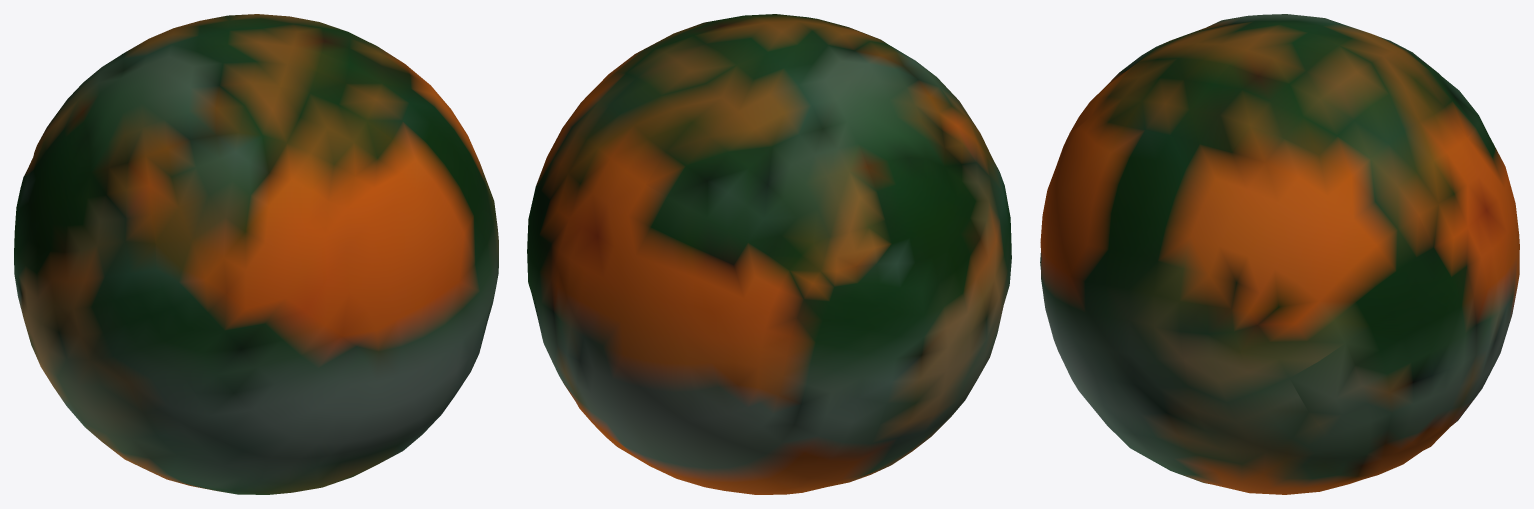
The model's file is 02-6493403-vertex.glb.
3 renders of one model, left to right at view 1: azimuth 30°, elevation 25°; view 2: azimuth 150°, elevation 25°; view 3: azimuth 270°, elevation 25°, orthographic.
Parts seen in each view (by area): view 1: Retopo_neural_node_637e57d5-c699-4cf2-8cf2-9bd27205adfb; view 2: Retopo_neural_node_637e57d5-c699-4cf2-8cf2-9bd27205adfb; view 3: Retopo_neural_node_637e57d5-c699-4cf2-8cf2-9bd27205adfb.
Part boxes in pixels (<box>): Retopo_neural_node_637e57d5-c699-4cf2-8cf2-9bd27205adfb: <box>14,14,498,494</box>; Retopo_neural_node_637e57d5-c699-4cf2-8cf2-9bd27205adfb: <box>527,14,1011,494</box>; Retopo_neural_node_637e57d5-c699-4cf2-8cf2-9bd27205adfb: <box>1040,14,1519,494</box>.
Bounding box in the file's own units: 0.4853 × 0.4849 × 0.4848.
